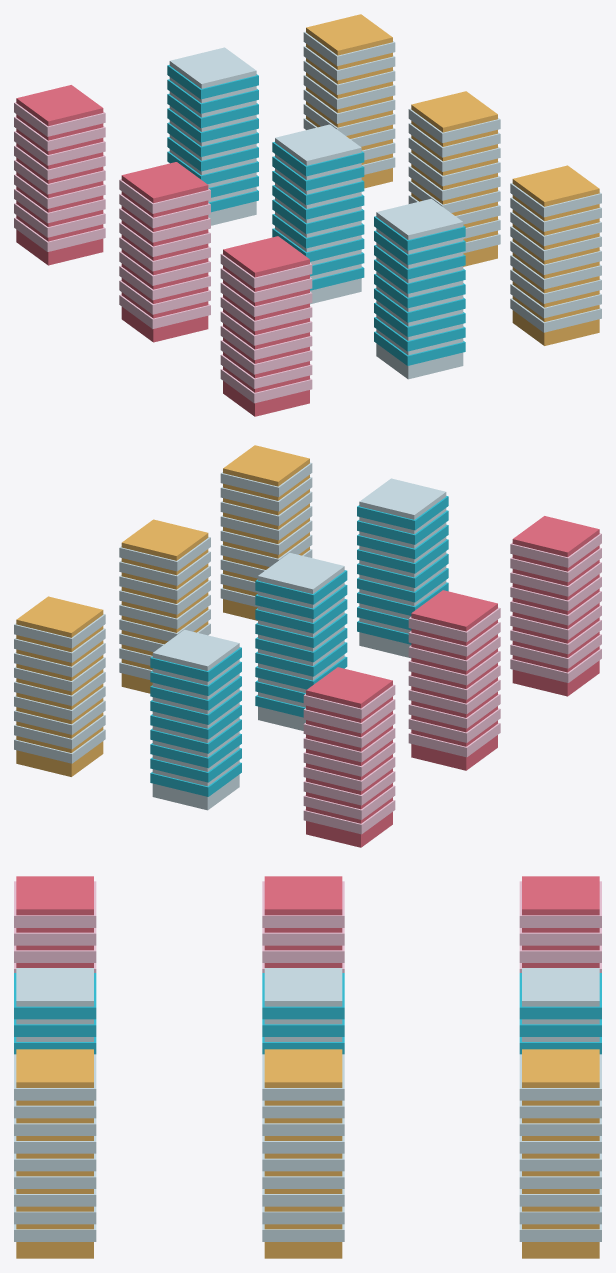
Rendered from Houses.fbx.
3 renders of one model, top to bottom at view 1: azimuth 30°, elevation 25°; view 2: azimuth 150°, elevation 25°; view 3: azimuth 270°, elevation 25°, orthographic. The views are drawn at different scales.
Visible parts, largest first — view 1: Optimized_01; view 2: Optimized_01; view 3: Optimized_01.
Boxes of the visible parts, x1,y1,x2,y2 form: Optimized_01: (14, 14, 601, 416); Optimized_01: (14, 445, 601, 847); Optimized_01: (14, 876, 601, 1258).
Bounding box in the file's own units: 7577 × 3000 × 9067.
